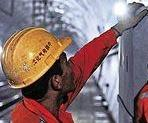gloves: (111, 2, 148, 37), (1, 0, 1, 0)
hard-hat: (0, 27, 72, 88)
ppe-suit: (0, 0, 2, 1)
